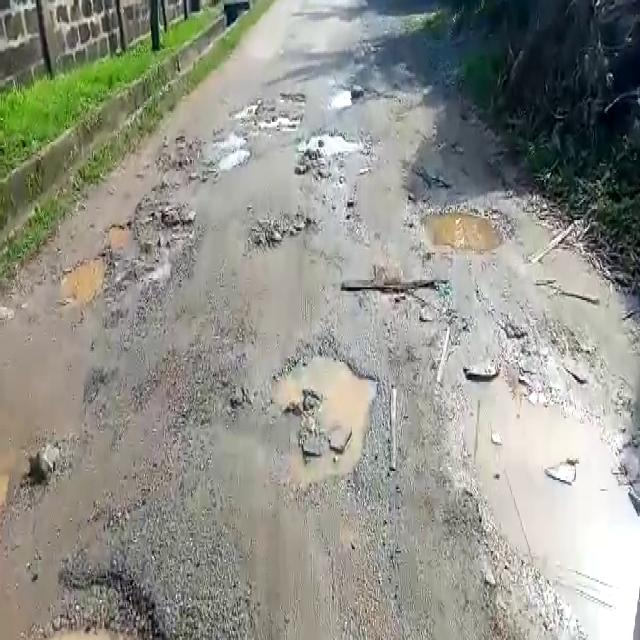Pothole: (454, 385, 639, 640), (275, 342, 384, 480), (23, 568, 173, 638), (106, 192, 198, 258), (418, 202, 515, 257), (340, 274, 461, 306), (242, 211, 318, 250), (58, 252, 109, 310), (297, 129, 369, 160), (214, 131, 253, 169)
